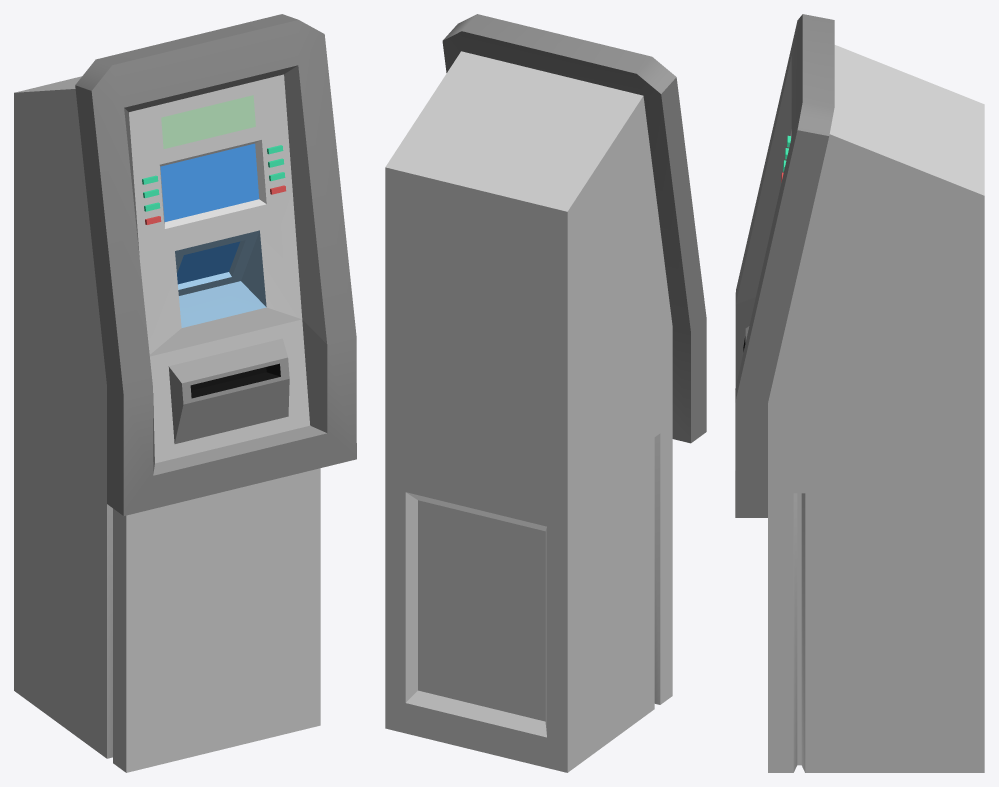
Rendered from ATM_01.fbx.
3 renders of one model, left to right at view 1: azimuth 30°, elevation 25°; view 2: azimuth 150°, elevation 25°; view 3: azimuth 270°, elevation 25°, orthographic. The views are drawn at different scales.
Parts seen in each view (by area): view 1: SM_Prop_ATM_01; view 2: SM_Prop_ATM_01; view 3: SM_Prop_ATM_01.
Part boxes in pixels (box(x1,y1,x2,y2)): SM_Prop_ATM_01: box(14, 14, 356, 772); SM_Prop_ATM_01: box(385, 14, 706, 772); SM_Prop_ATM_01: box(735, 14, 984, 772).
Size of the model in its own units: 0.5698 by 1.62 by 0.5463.
